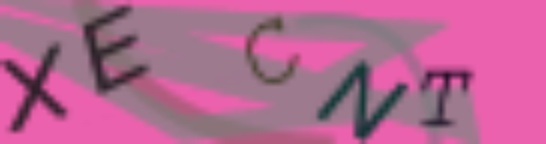C: (241, 15, 303, 86)
E: (79, 2, 149, 99)
N: (316, 59, 411, 144)
T: (411, 65, 476, 131)
X: (1, 39, 68, 137)
